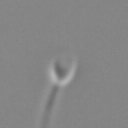normal: (34, 84, 60, 128)
